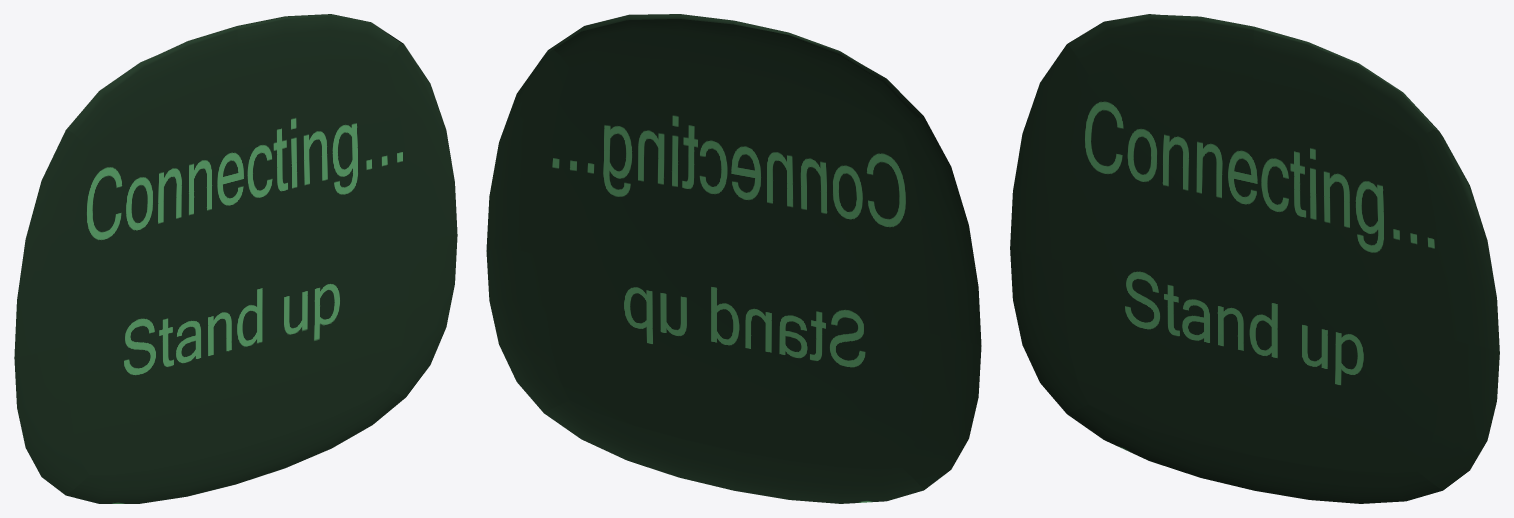
The model's file is ConnectingTerminal1.fbx.
3 renders of one model, left to right at view 1: azimuth 30°, elevation 25°; view 2: azimuth 150°, elevation 25°; view 3: azimuth 330°, elevation 25°, orthographic. The views are drawn at different scales.
Parts seen in each view (by area): view 1: pc2.004; view 2: pc2.004; view 3: pc2.004.
Part boxes in pixels (bbox=[...]): pc2.004: bbox=[14, 14, 457, 503]; pc2.004: bbox=[486, 14, 981, 503]; pc2.004: bbox=[1010, 14, 1499, 503].
Bounding box in the file's own units: 39.89 × 37.74 × 3.12.
Materials: 1 (1 with a texture image).
